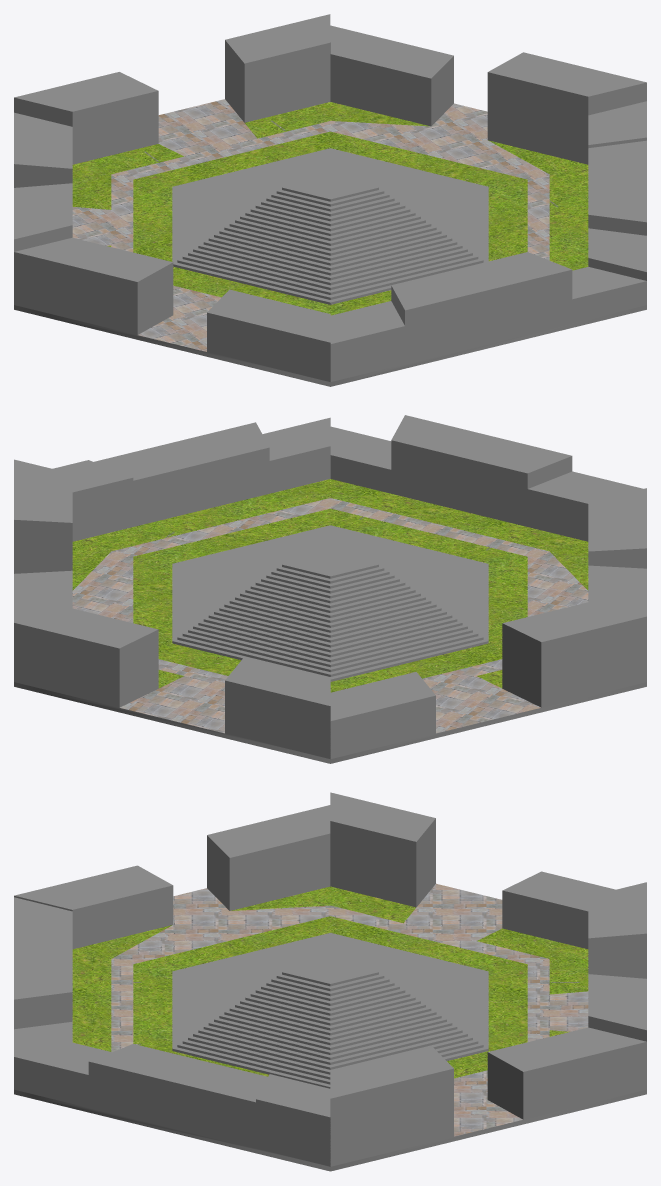
3 views of the same model, one above another, from view 1: azimuth 30°, elevation 25°; view 2: azimuth 150°, elevation 25°; view 3: azimuth 270°, elevation 25° (orthographic).
Visible parts, largest first — view 1: Cylinder028; view 2: Cylinder028; view 3: Cylinder028.
Part boxes in pixels (x1,y1,x2,y2): Cylinder028: (14, 14, 646, 386); Cylinder028: (14, 415, 646, 763); Cylinder028: (14, 792, 646, 1171).
Size of the model in its own units: 140 by 15.39 by 121.
5 materials, 2 textured.
